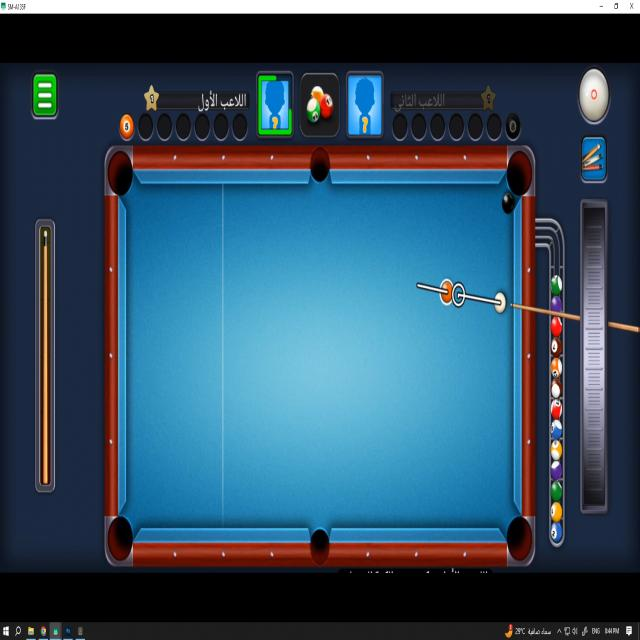object_ball: (440, 280, 455, 306), (502, 192, 514, 213)
white_cue_ball: (493, 291, 507, 314)
